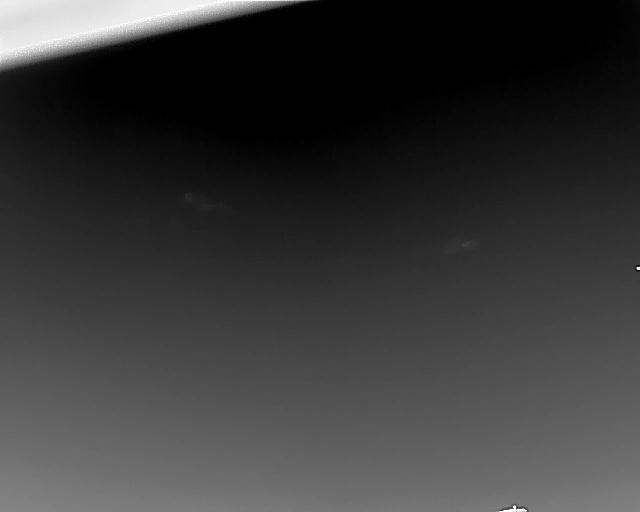fpv-drone: (635, 265, 639, 271)
